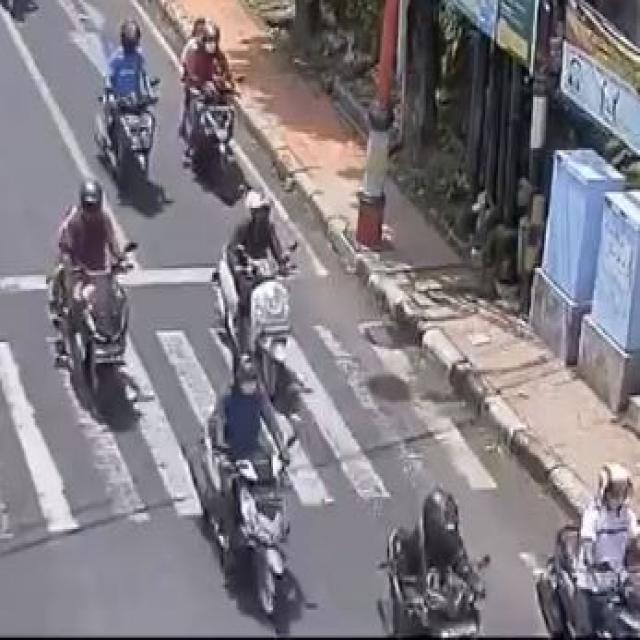motorbike: (188, 353, 300, 637), (364, 480, 514, 640), (46, 180, 145, 404), (533, 462, 640, 640), (74, 10, 170, 185), (179, 20, 256, 185), (218, 186, 292, 340)
